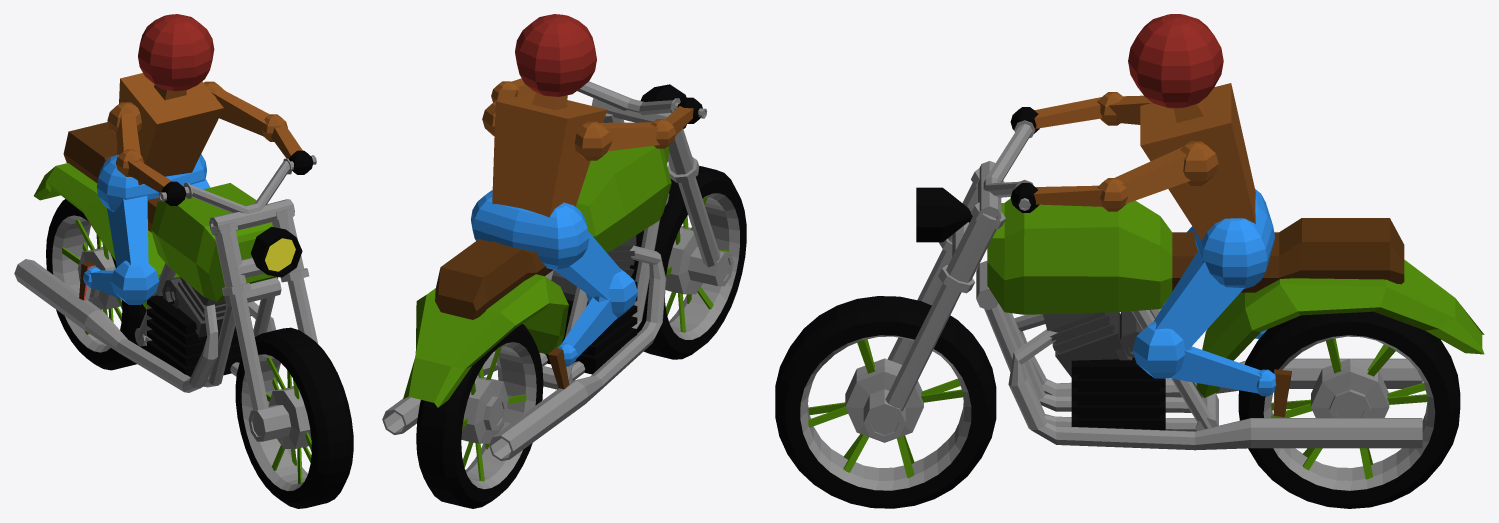
The model's file is moto.gltf.
3 views of the same model, side by side, from view 1: azimuth 30°, elevation 25°; view 2: azimuth 150°, elevation 25°; view 3: azimuth 270°, elevation 25° (orthographic). The views are drawn at different scales.
Visible parts, largest first — view 1: Plane; view 2: Plane; view 3: Plane.
Part boxes in pixels (x1=…): Plane: x1=14, y1=14, x2=353, y2=508; Plane: x1=382, y1=14, x2=746, y2=508; Plane: x1=775, y1=14, x2=1484, y2=508.
Size of the model in its own units: 0.0725 by 0.166 by 0.2202.
1 material, 1 textured.
